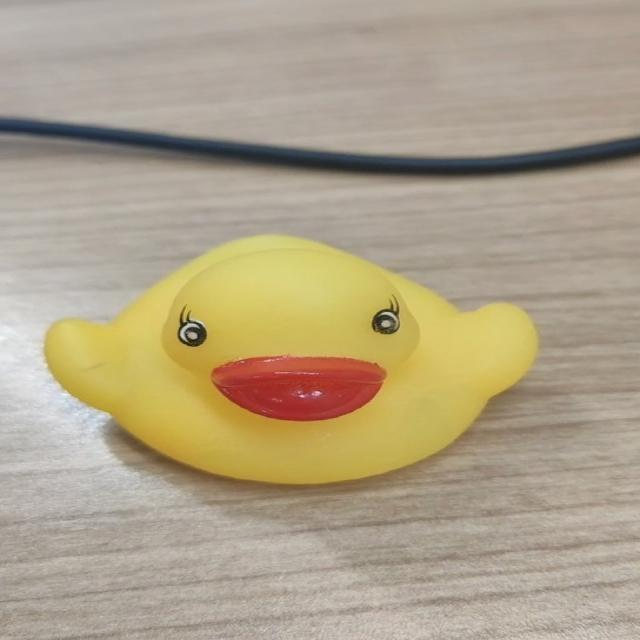rubber-duck: (44, 234, 536, 482)
